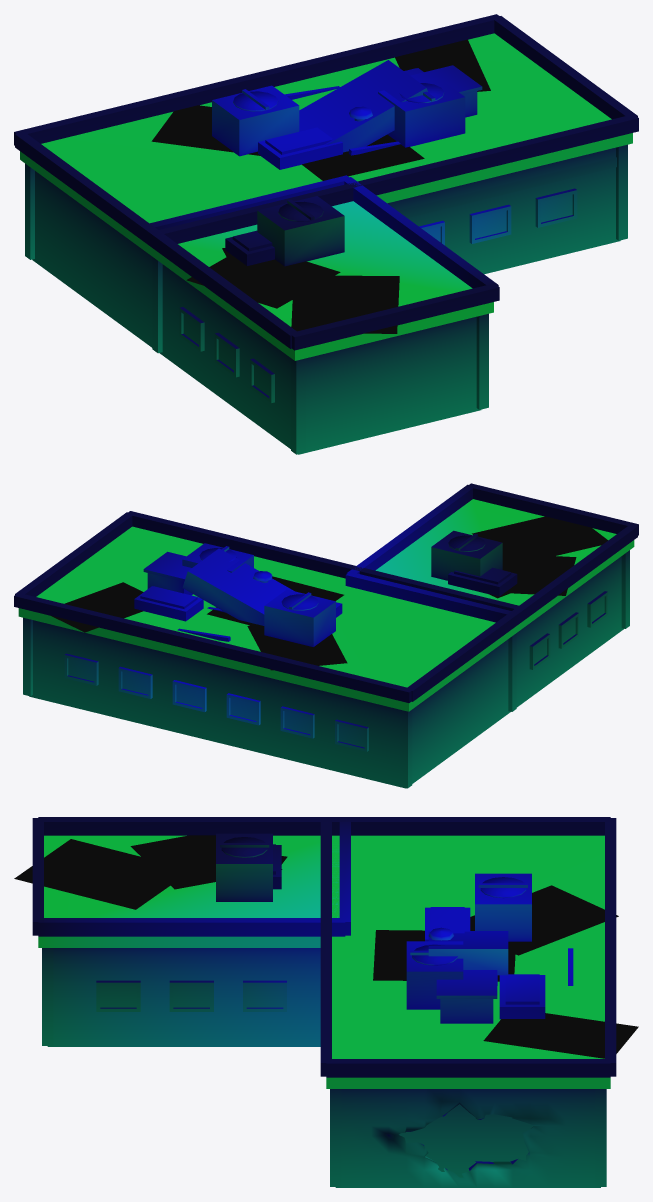
File: 2civliving_damaged.glb
3 views of the same model, one above another, from view 1: azimuth 30°, elevation 25°; view 2: azimuth 150°, elevation 25°; view 3: azimuth 270°, elevation 25° (orthographic). The views are drawn at different scales.
Visible parts, largest first — view 1: lod0; view 2: lod0; view 3: lod0.
Boxes of the visible parts, x1,y1,x2,y2 form: lod0: (14,14,638,454); lod0: (14,483,638,788); lod0: (14,817,638,1187).
Size of what is drawn, in the model's own units: 15.65 by 4.75 by 16.49.
